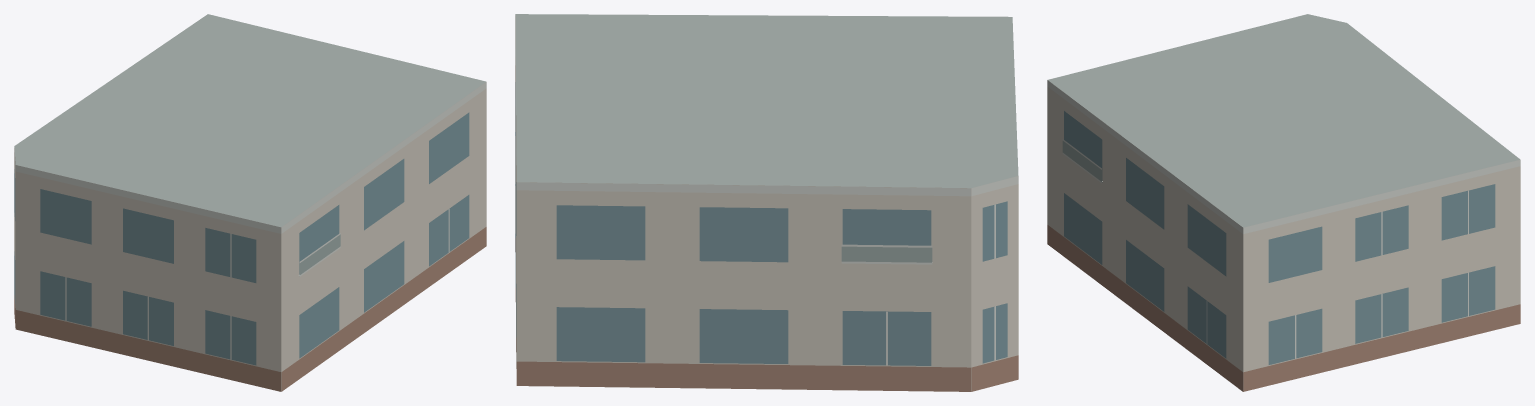
File: survey-upis-32972107.glb
3 views of the same model, side by side, from view 1: azimuth 30°, elevation 25°; view 2: azimuth 150°, elevation 25°; view 3: azimuth 270°, elevation 25° (orthographic). The views are drawn at different scales.
Parts seen in each view (by area): view 1: survey-upis-32972107.tmp; view 2: survey-upis-32972107.tmp; view 3: survey-upis-32972107.tmp.
Boxes of the visible parts, bbox=[...] form: survey-upis-32972107.tmp: bbox=[14, 14, 486, 391]; survey-upis-32972107.tmp: bbox=[515, 14, 1018, 391]; survey-upis-32972107.tmp: bbox=[1047, 14, 1520, 391].
Bounding box in the file's own units: 17.03 × 6.1 × 15.94.
